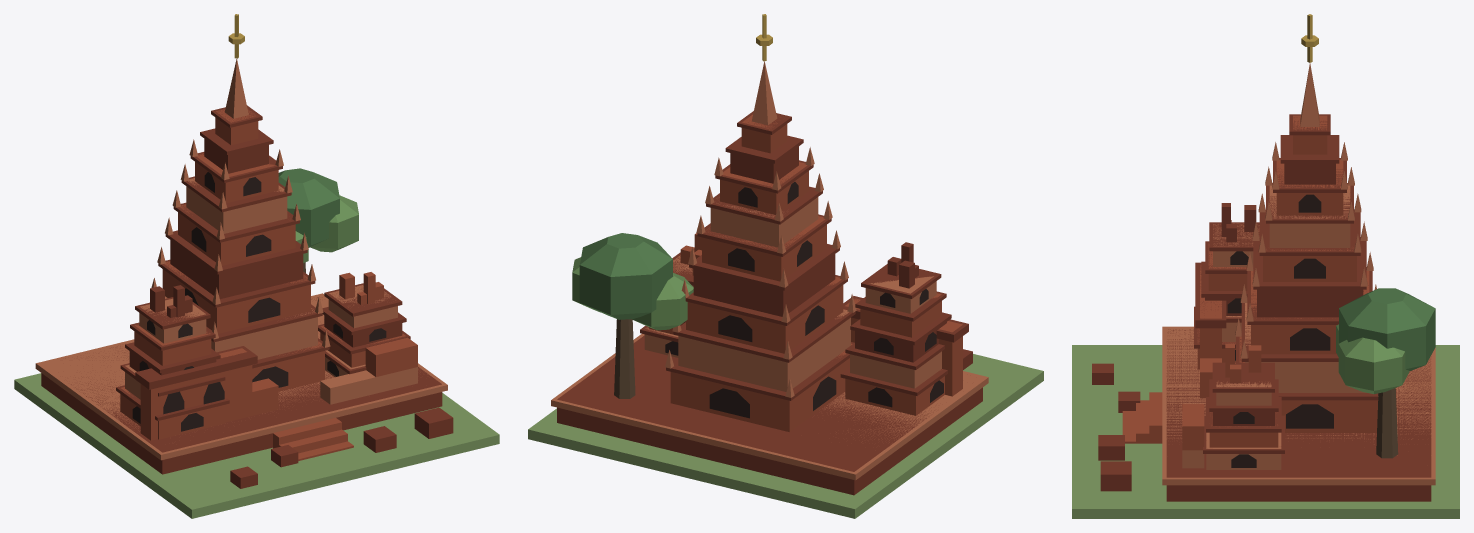
The model's file is ayutthaya.glb.
3 views of the same model, side by side, from view 1: azimuth 30°, elevation 25°; view 2: azimuth 150°, elevation 25°; view 3: azimuth 270°, elevation 25° (orthographic). The views are drawn at different scales.
Parts seen in each view (by area): view 1: ayutthaya; view 2: ayutthaya; view 3: ayutthaya.
Boxes of the visible parts, x1,y1,x2,y2 form: ayutthaya: [14, 14, 499, 518]; ayutthaya: [528, 14, 1043, 518]; ayutthaya: [1072, 14, 1459, 518].
Bounding box in the file's own units: 1.76 × 2.11 × 1.76.
